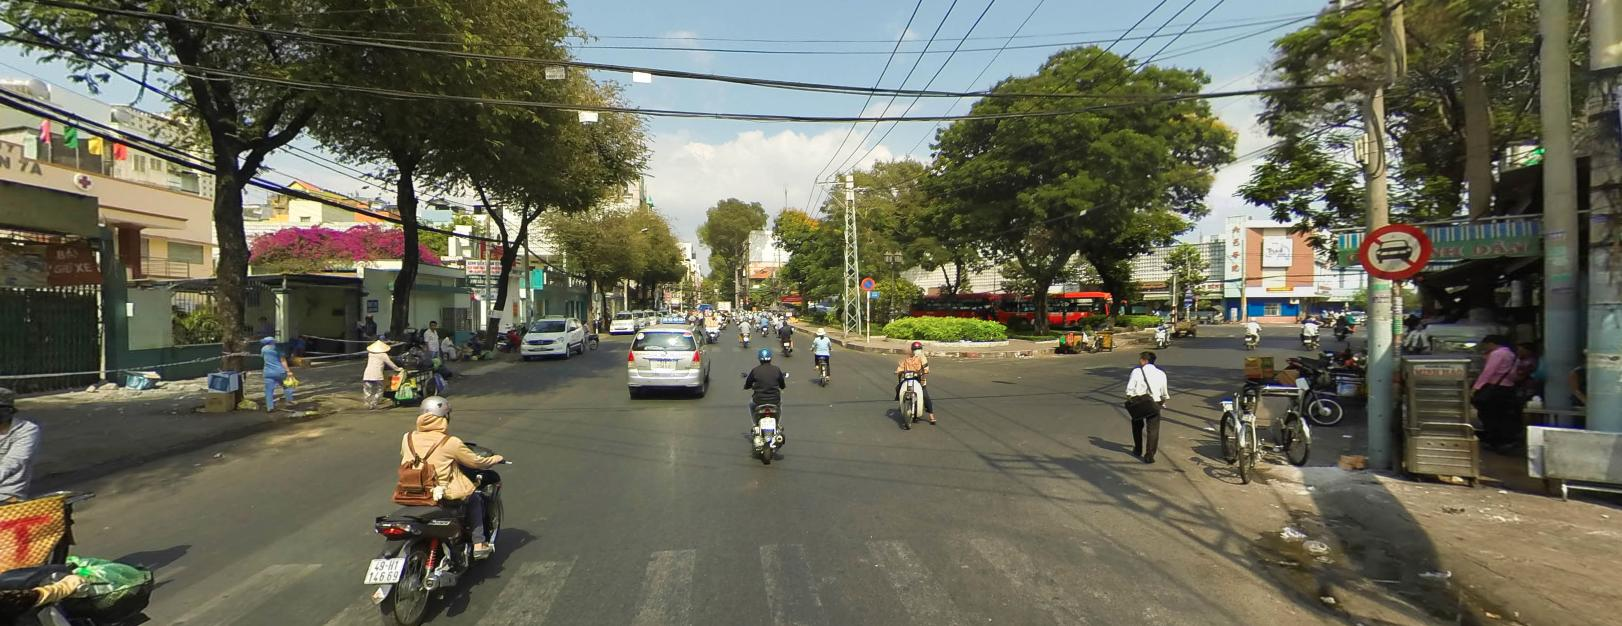Cam con lai: (1357, 221, 1432, 278)
Cam dung va do: (860, 275, 874, 288)
